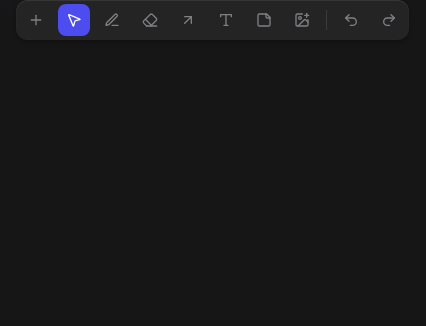
Test: WorkbenchToolbar — Add-node trigger (US3, ui-translation §3.1) › opening the Add node menu reveals the upload rows and type grid
Radix DropdownMenu.Trigger opens on pointerdown (button 0).
Step 1. Press the mouse on the button titled "Add node" → (36, 20), box x1=20 y1=4 x2=52 y2=36
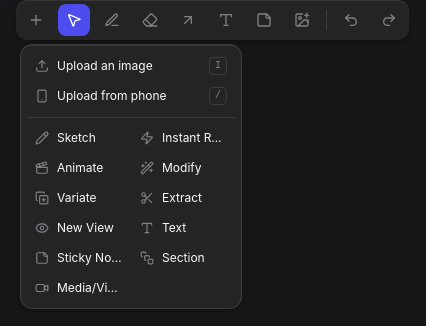
Check: the text "Upload an image" is shown, box x1=57 y1=58 x2=153 y2=73
Check: the text "Instant Render" is shown, box x1=162 y1=130 x2=227 y2=146
